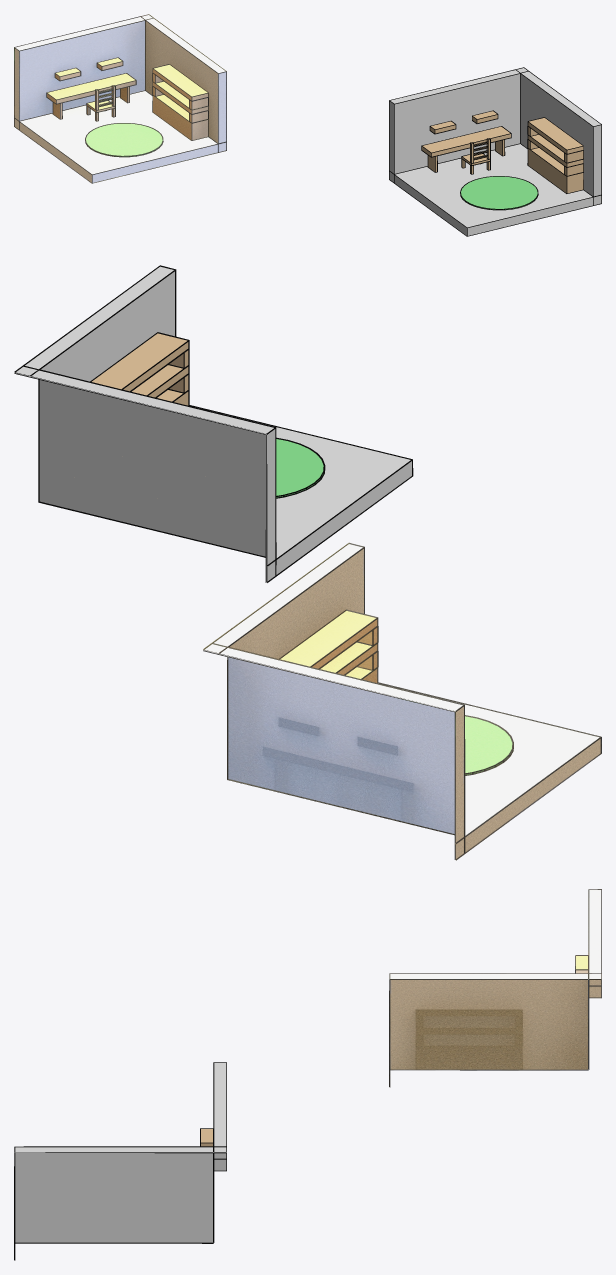
The model's file is public.glb.
3 renders of one model, top to bottom at view 1: azimuth 30°, elevation 25°; view 2: azimuth 150°, elevation 25°; view 3: azimuth 270°, elevation 25°, orthographic. The views are drawn at different scales.
Parts seen in each view (by area): view 1: Room_Mesh_Ground.001, Room_Mesh_Ground.002; view 2: Room_Mesh_Ground.001, Room_Mesh_Ground.002; view 3: Room_Mesh_Ground.001, Room_Mesh_Ground.002.
Part boxes in pixels (x1,y1,x2,y2): Room_Mesh_Ground.001: (389, 67, 601, 236); Room_Mesh_Ground.002: (14, 14, 226, 183); Room_Mesh_Ground.001: (14, 265, 413, 582); Room_Mesh_Ground.002: (203, 542, 601, 860); Room_Mesh_Ground.001: (14, 1062, 226, 1260); Room_Mesh_Ground.002: (389, 889, 601, 1087).
Bounding box in the file's own units: 88.64 × 20.52 × 88.61.
5 materials, 1 textured.
